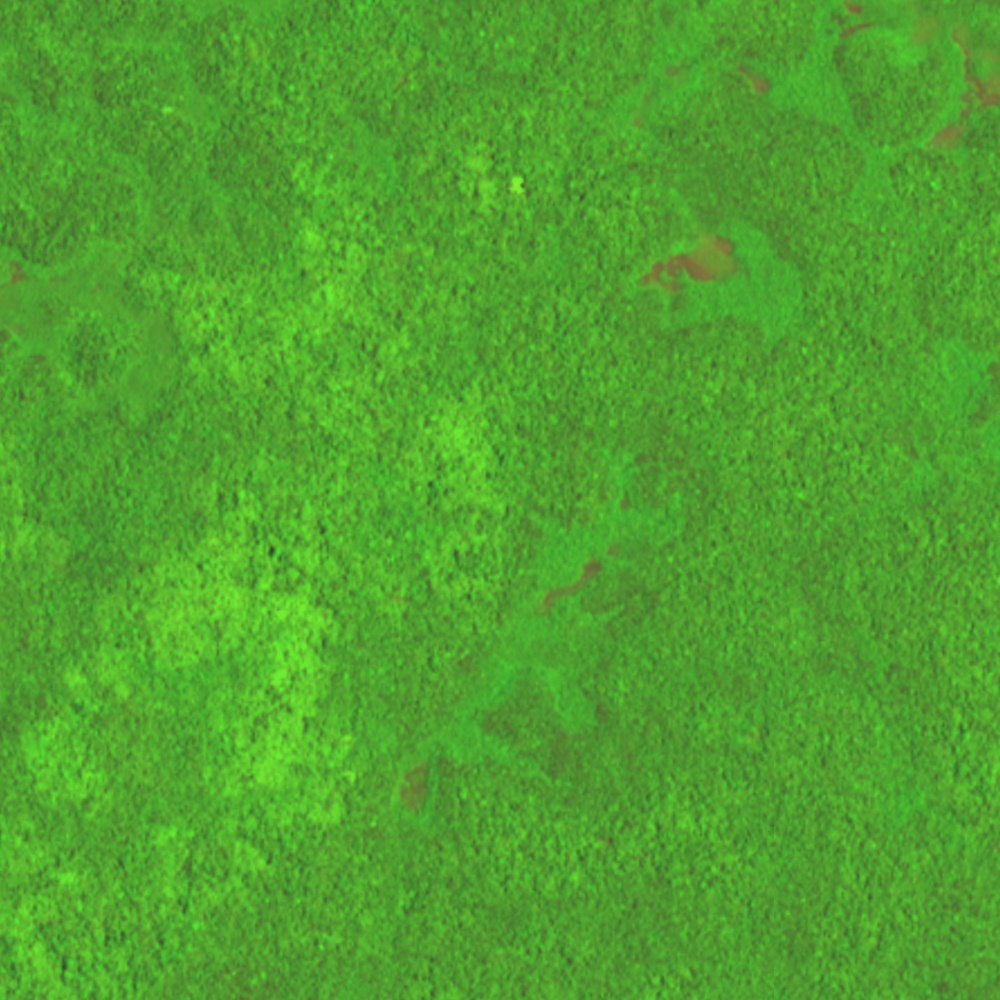legal: (928, 27, 1000, 153), (633, 231, 743, 297), (541, 540, 620, 610), (393, 752, 438, 817), (825, 1, 888, 41), (729, 57, 777, 96)
